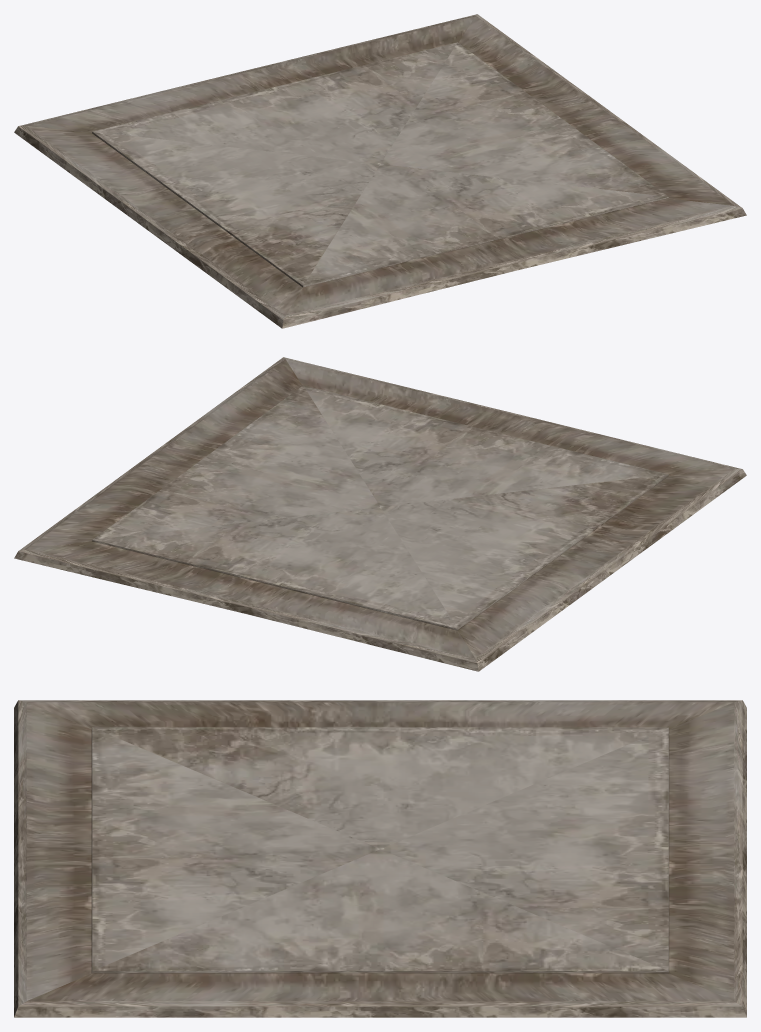
3 views of the same model, one above another, from view 1: azimuth 30°, elevation 25°; view 2: azimuth 150°, elevation 25°; view 3: azimuth 270°, elevation 25° (orthographic). The views are drawn at different scales.
Parts seen in each view (by area): view 1: SM_HallWayCeilingTile_v1_LOD0; view 2: SM_HallWayCeilingTile_v1_LOD0; view 3: SM_HallWayCeilingTile_v1_LOD0.
Part boxes in pixels (x1=…): SM_HallWayCeilingTile_v1_LOD0: x1=14, y1=14, x2=746, y2=328; SM_HallWayCeilingTile_v1_LOD0: x1=14, y1=357, x2=746, y2=671; SM_HallWayCeilingTile_v1_LOD0: x1=14, y1=700, x2=746, y2=1017.
Size of the model in its own units: 5.99 by 0.1393 by 5.99.
Materials: 1 (1 with a texture image).
